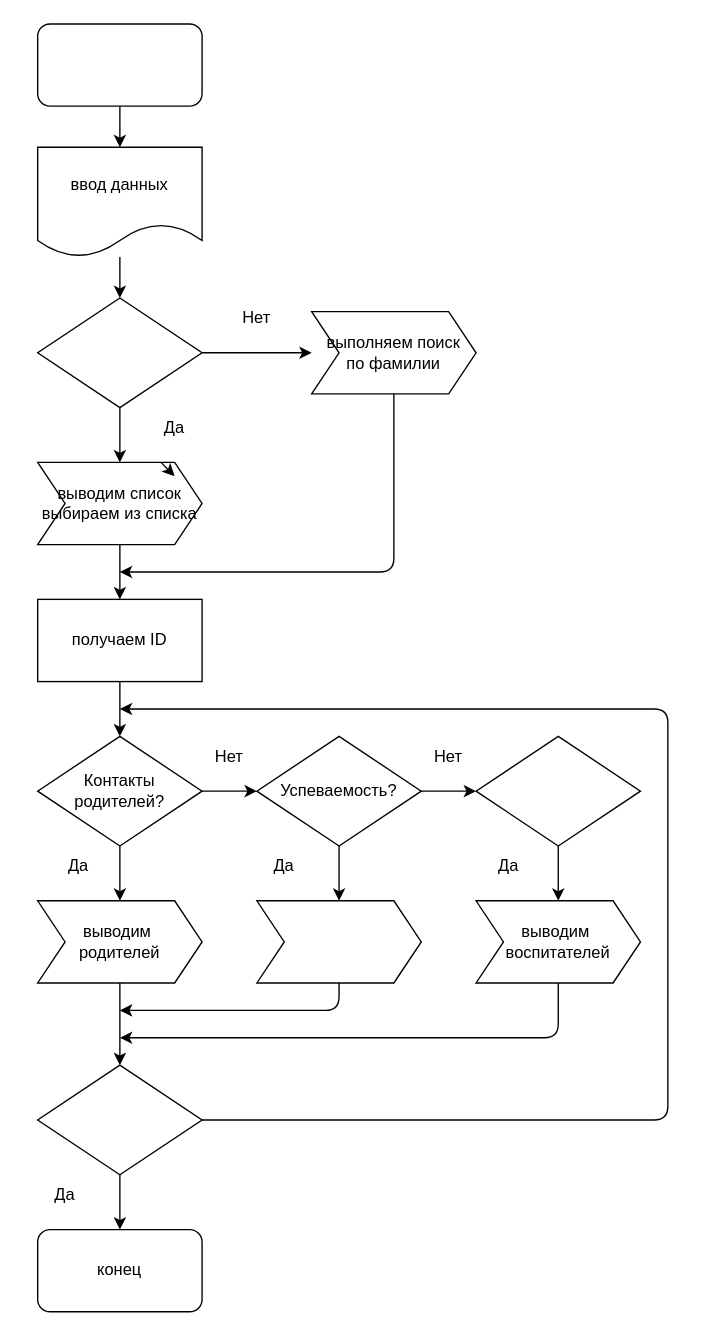
This 703x1336 diagram has some shape labels left out. The shapes that lost their labels are listed below. From the top down, each one's centre as x and y in pixels, then its label:
At point (119, 64): "начало".
At point (119, 352): "хотите весь список".
At point (557, 790): "Контакты воспитателей".
At point (338, 941): "выводим оценки".
At point (119, 1119): "закончим?".
